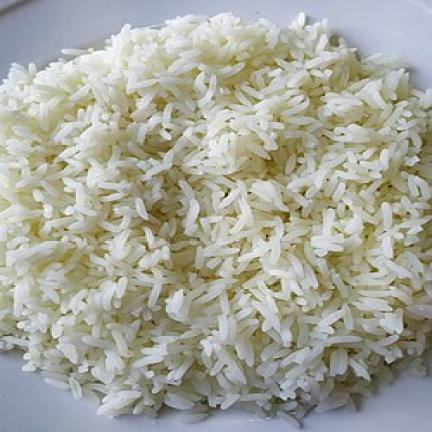bhaat: (0, 14, 430, 416)
